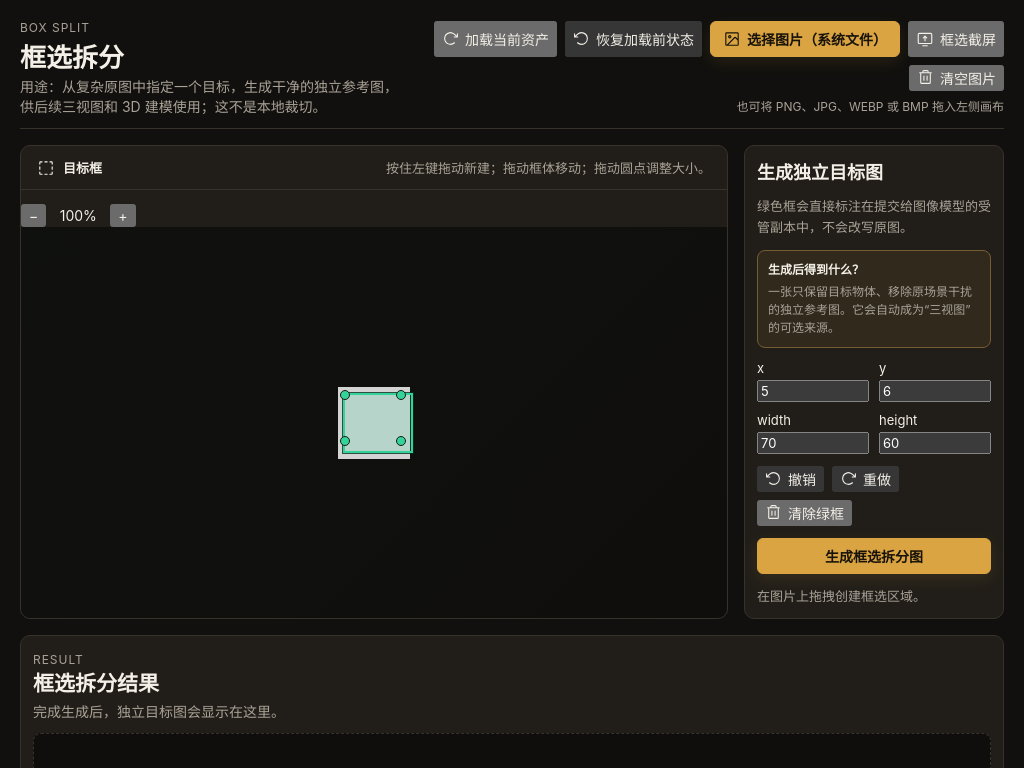
Test: SelectionWorkspace › restores the box-split source before loading current asset and supports one-step recovery
Expected: the number field labelled "x" holds "5", [757,380,869,402]
Click the button "加载当前资产": click(496, 39) [434,21,557,57]
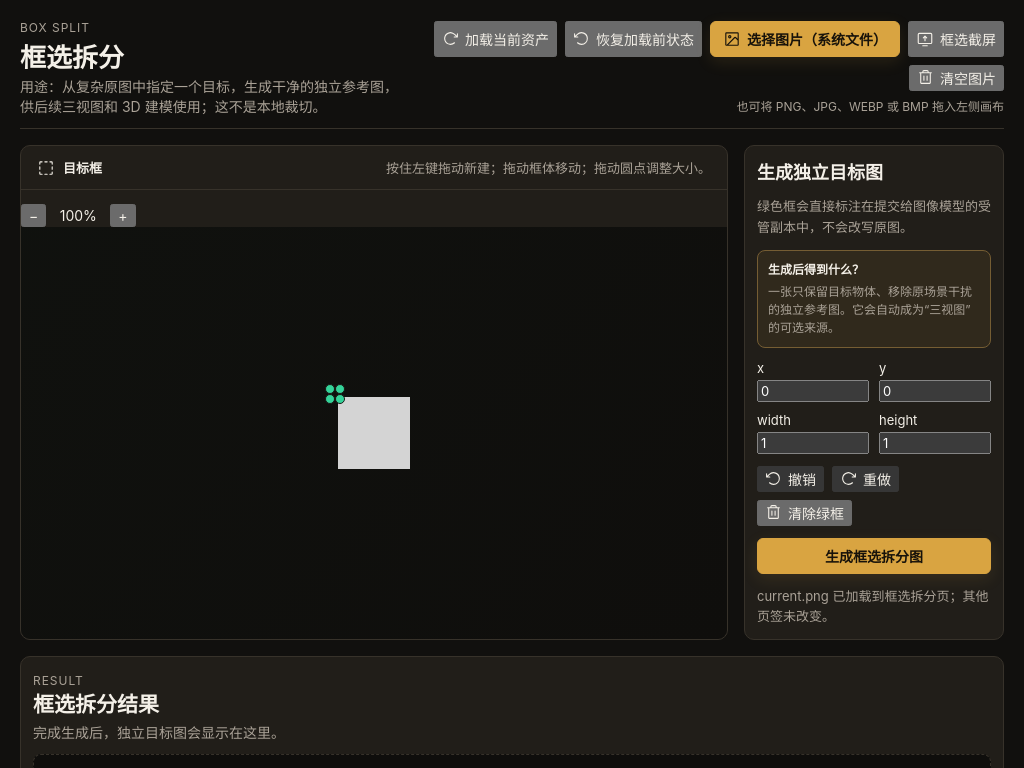
Now the number field labelled "x" holds "0", box [757,380,869,402]
Click the button "恢复加载前状态": click(634, 39) [565,21,702,57]
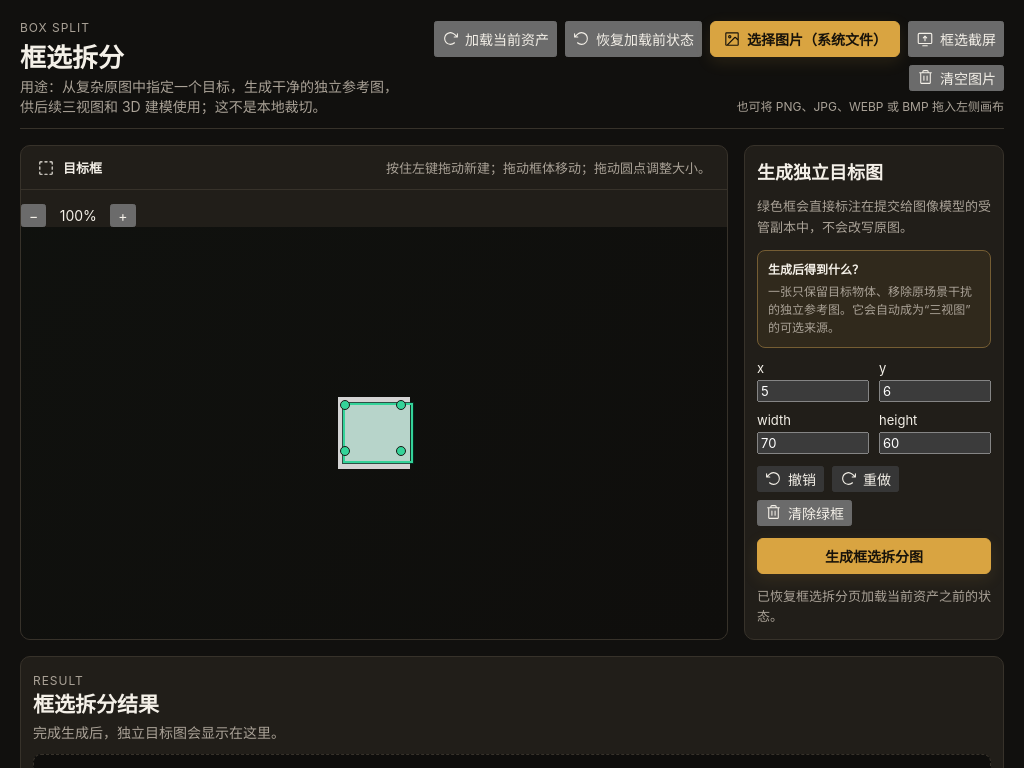
Now the number field labelled "x" holds "5", box [757,380,869,402]
